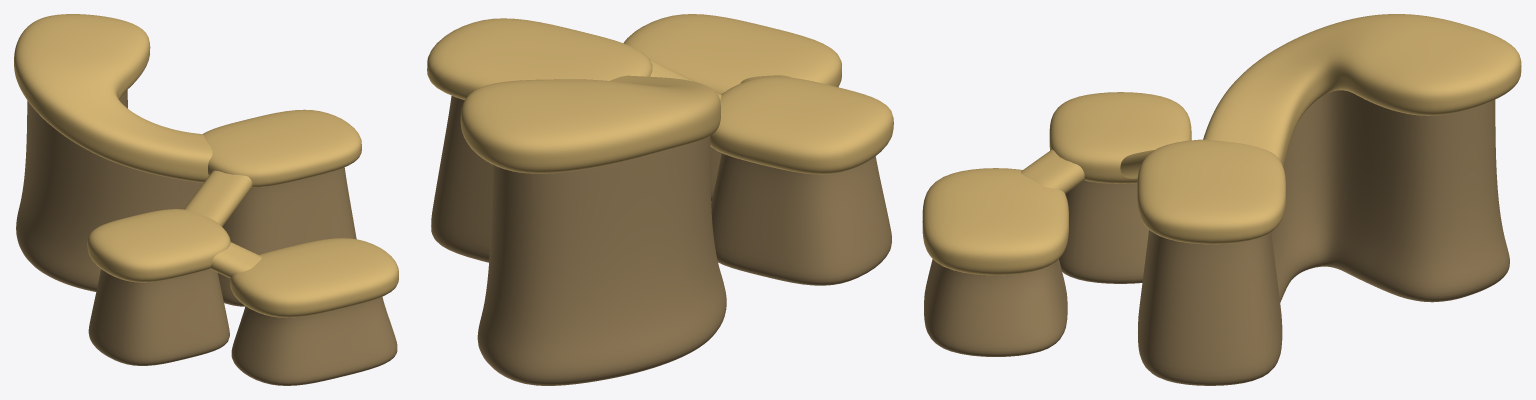
Rendered from Map_Ver2_00.fbx.
The picture shows the model from 3 angles, left to right: view 1: azimuth 30°, elevation 25°; view 2: azimuth 150°, elevation 25°; view 3: azimuth 270°, elevation 25°; orthographic projection. The views are drawn at different scales.
Parts seen in each view (by area): view 1: Map_land_1_Field_Top, Map_land_1_Field_BT, Map_land_3_Butter_BT, Map_land_04_Pan_BT, Map_land_04_Pan_Top, Map_land_2_Cutter_Top, Map_land_2_Cutter_BT, Map_land_3_Butter_Top, Map_land_02_3_Bridge, Map_land_03_4_Bridge; view 2: Map_land_1_Field_BT, Map_land_1_Field_Top, Map_land_3_Butter_BT, Map_land_3_Butter_Top, Map_land_2_Cutter_Top, Map_land_04_Pan_Top, Map_land_2_Cutter_BT, Map_land_02_3_Bridge; view 3: Map_land_1_Field_BT, Map_land_1_Field_Top, Map_land_2_Cutter_BT, Map_land_2_Cutter_Top, Map_land_04_Pan_Top, Map_land_04_Pan_BT, Map_land_3_Butter_Top, Map_land_3_Butter_BT, Map_land_03_4_Bridge, Map_land_02_3_Bridge.
Part boxes in pixels (x1,y1,x2,y2): Map_land_1_Field_Top: (14,14,212,182); Map_land_1_Field_BT: (16,90,203,291); Map_land_3_Butter_BT: (88,269,229,365); Map_land_04_Pan_BT: (231,296,397,385); Map_land_04_Pan_Top: (230,238,398,317); Map_land_2_Cutter_Top: (203,109,361,187); Map_land_2_Cutter_BT: (218,167,356,306); Map_land_3_Butter_Top: (87,209,230,282); Map_land_02_3_Bridge: (184,170,252,226); Map_land_03_4_Bridge: (210,242,261,278); Map_land_1_Field_BT: (477,136,726,385); Map_land_1_Field_Top: (460,75,720,173); Map_land_3_Butter_BT: (711,153,891,285); Map_land_3_Butter_Top: (710,76,893,174); Map_land_2_Cutter_Top: (427,18,652,100); Map_land_04_Pan_Top: (623,14,841,94); Map_land_2_Cutter_BT: (431,96,491,262); Map_land_02_3_Bridge: (649,59,721,99); Map_land_1_Field_BT: (1271,90,1509,302); Map_land_1_Field_Top: (1203,14,1521,166); Map_land_2_Cutter_BT: (1138,230,1282,385); Map_land_2_Cutter_Top: (1137,139,1285,244); Map_land_04_Pan_Top: (922,168,1068,275); Map_land_04_Pan_BT: (924,259,1067,356); Map_land_3_Butter_Top: (1049,92,1191,183); Map_land_3_Butter_BT: (1059,180,1148,283); Map_land_03_4_Bridge: (1021,149,1084,193); Map_land_02_3_Bridge: (1120,150,1154,178).
Size of the model in its own units: 55.95 by 37.46 by 83.5.
